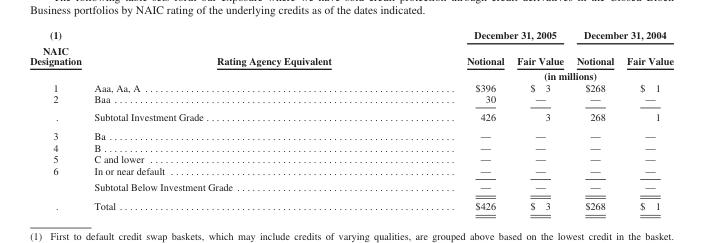table: (29, 28, 672, 211)
table column: (87, 28, 398, 211), (398, 28, 509, 211), (509, 28, 569, 211), (29, 28, 87, 211), (619, 28, 672, 211), (569, 28, 619, 211)
table column header: (29, 28, 672, 81)
table row: (29, 47, 672, 67), (29, 28, 672, 47), (29, 107, 672, 126), (29, 178, 672, 196), (29, 92, 672, 107), (29, 126, 672, 141), (29, 196, 672, 211), (29, 67, 672, 81), (29, 164, 672, 178), (29, 152, 672, 164), (29, 81, 672, 92), (29, 141, 672, 152)
table spanning cell: (87, 28, 398, 81), (398, 67, 672, 81), (398, 28, 569, 47), (29, 28, 87, 81), (29, 164, 87, 211), (29, 92, 87, 126), (569, 28, 672, 47)
